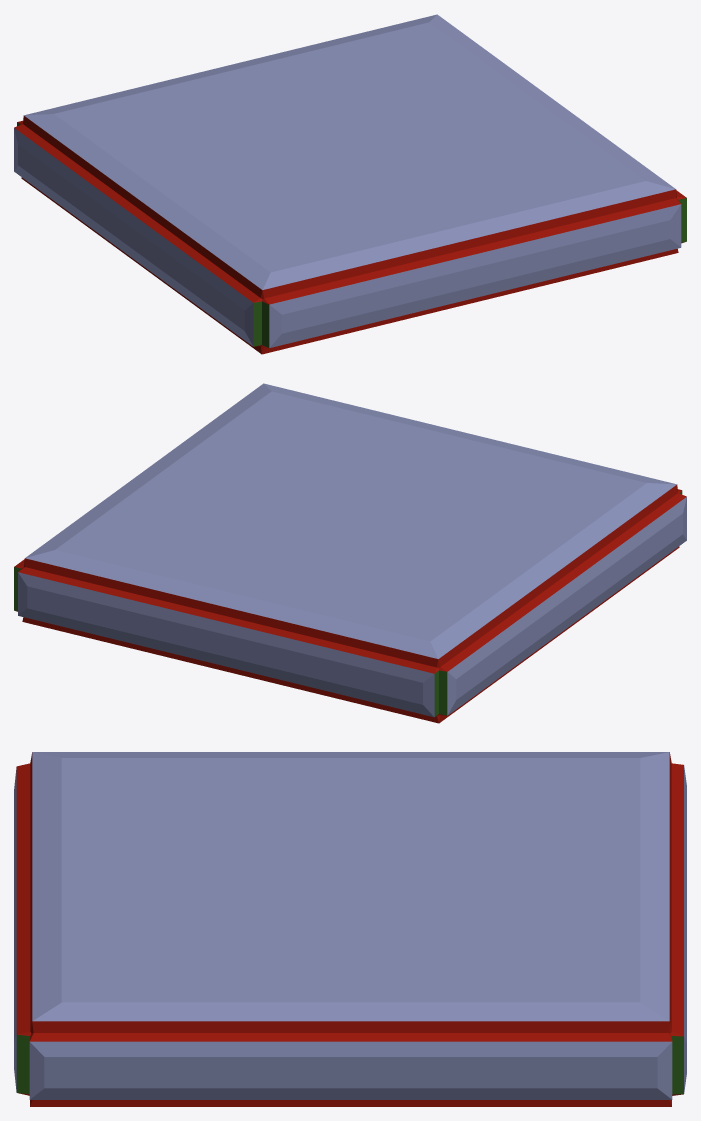
The model's file is cubofixedespero 1.fbx.
3 renders of one model, top to bottom at view 1: azimuth 30°, elevation 25°; view 2: azimuth 150°, elevation 25°; view 3: azimuth 270°, elevation 25°, orthographic. The views are drawn at different scales.
Visible parts, largest first — view 1: Box001; view 2: Box001; view 3: Box001.
Boxes of the visible parts, x1,y1,x2,y2 form: Box001: (14, 14, 686, 354); Box001: (14, 383, 686, 723); Box001: (14, 752, 686, 1106).
Size of the model in its own units: 69.56 by 10.98 by 69.32.
